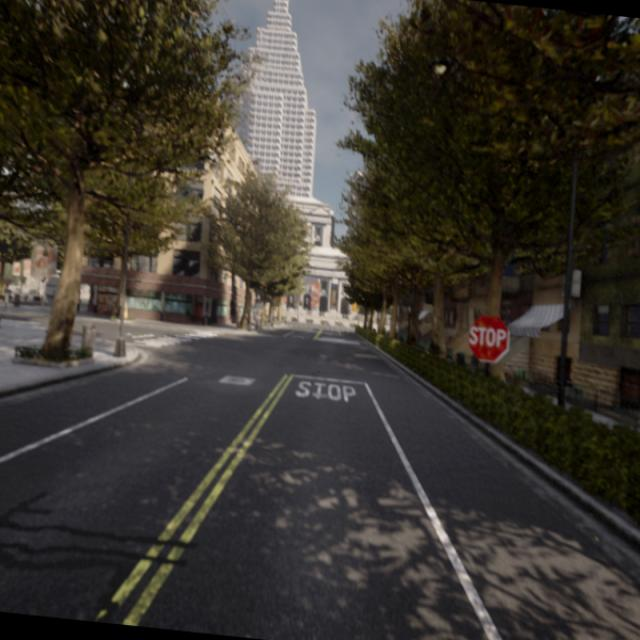stop sign: (465, 310, 511, 365)
